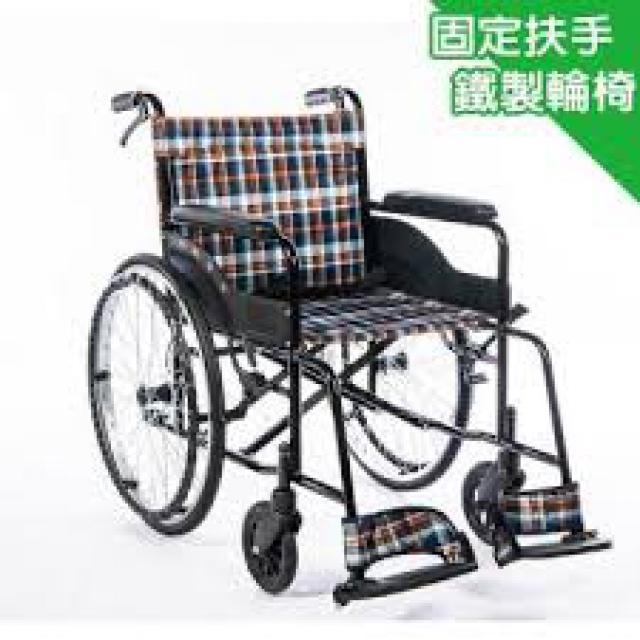wheelchair: (68, 71, 637, 606)
